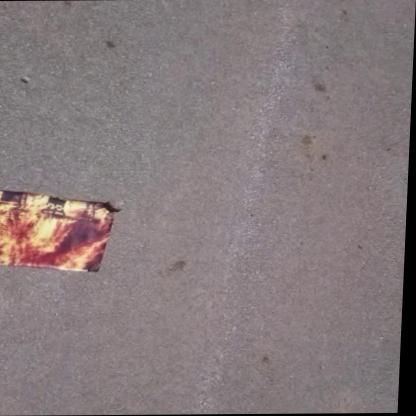fire-poster: (0, 186, 125, 274)
